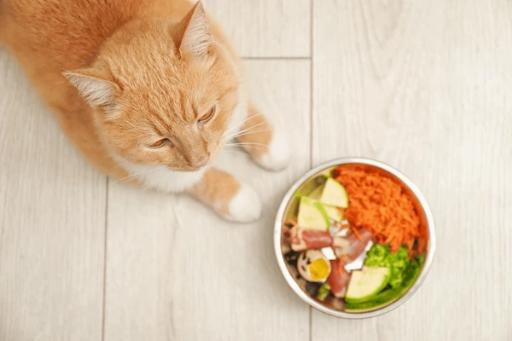cat_eating: (0, 0, 288, 222), (274, 158, 433, 316)
